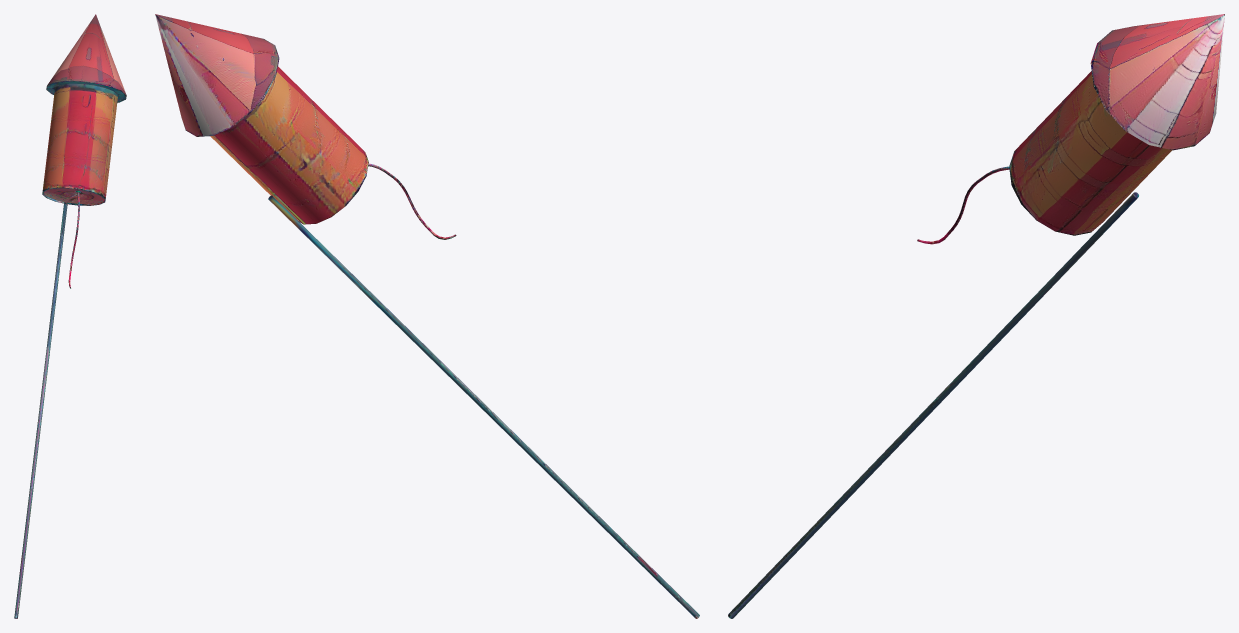
The picture shows the model from 3 angles, left to right: view 1: azimuth 30°, elevation 25°; view 2: azimuth 150°, elevation 25°; view 3: azimuth 270°, elevation 25°; orthographic projection. The views are drawn at different scales.
Parts seen in each view (by area): view 1: Mesh_0; view 2: Mesh_0; view 3: Mesh_0.
Boxes of the visible parts, x1,y1,x2,y2 form: Mesh_0: (14, 14, 126, 618); Mesh_0: (155, 14, 699, 618); Mesh_0: (728, 14, 1224, 618).
Size of the model in its own units: 51.95 by 100 by 56.76.
Materials: 1 (1 with a texture image).
